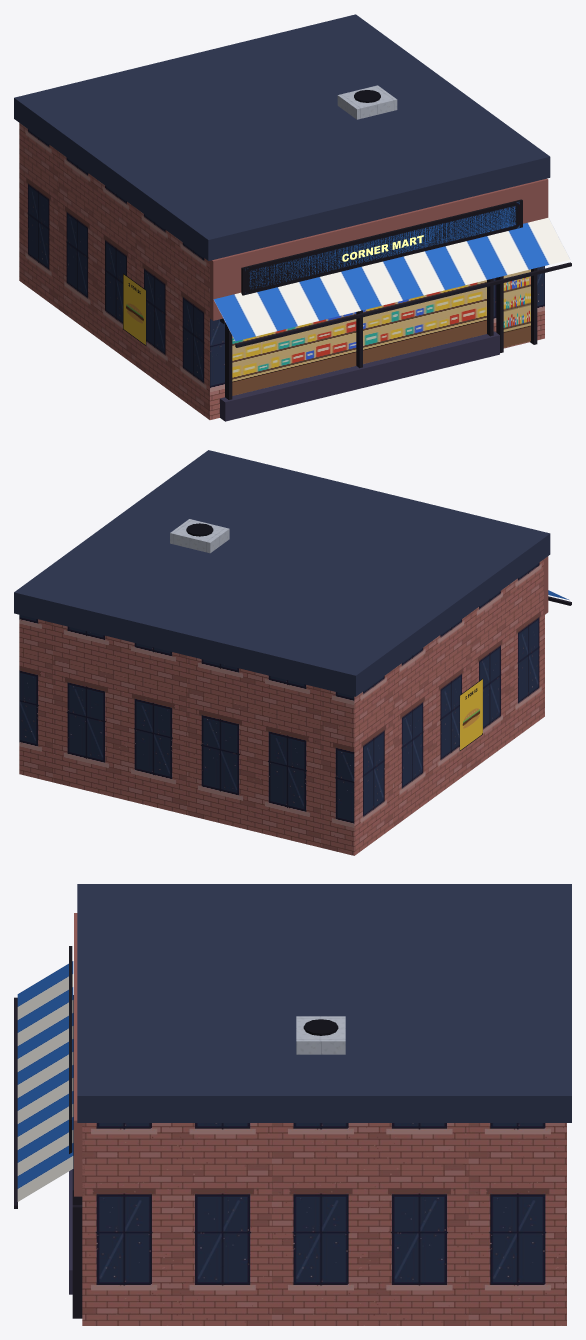
Rendered from corner_shop.glb.
The picture shows the model from 3 angles, top to bottom: view 1: azimuth 30°, elevation 25°; view 2: azimuth 150°, elevation 25°; view 3: azimuth 270°, elevation 25°; orthographic projection. The views are drawn at different scales.
Visible parts, largest first — view 1: corner_shop; view 2: corner_shop; view 3: corner_shop.
Boxes of the visible parts, <box> form: corner_shop: <box>14,14,571,421</box>; corner_shop: <box>14,450,571,855</box>; corner_shop: <box>14,884,571,1325</box>.
Bounding box in the file's own units: 10.2 × 5.55 × 11.34.
14 materials, 7 textured.
